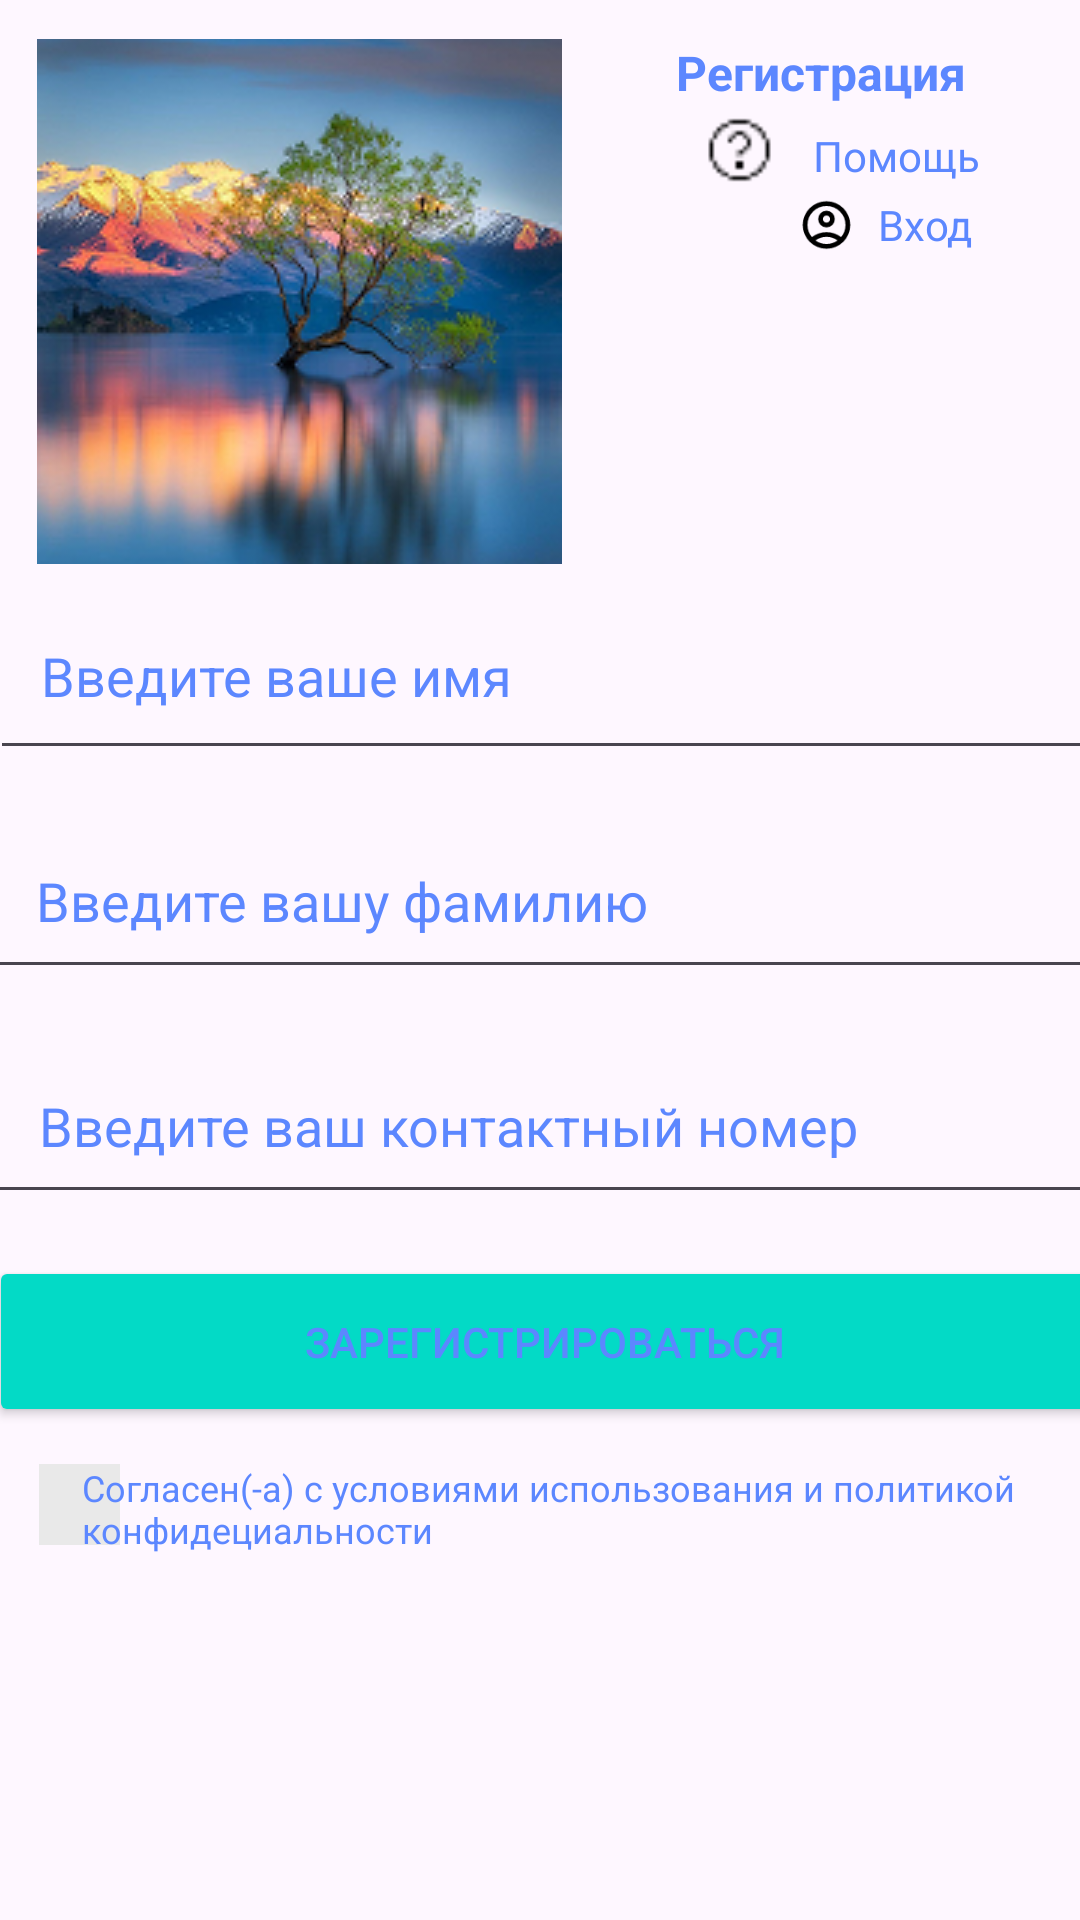

Where to tap for icons on this 1080 × 1920 app screen, as (x=x, y=y):
account circle: (x=826, y=225)
question: (x=739, y=150)
